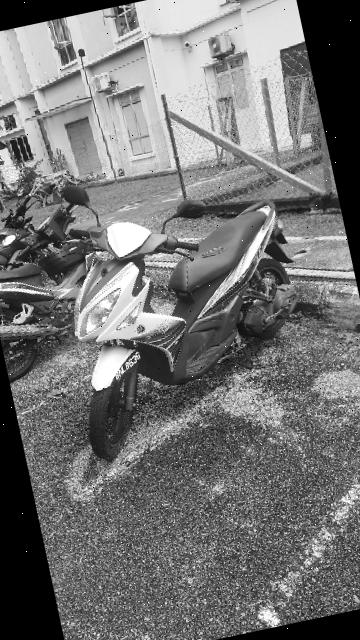License_Plate: (103, 344, 154, 388)
motorcycle: (24, 132, 333, 465)
